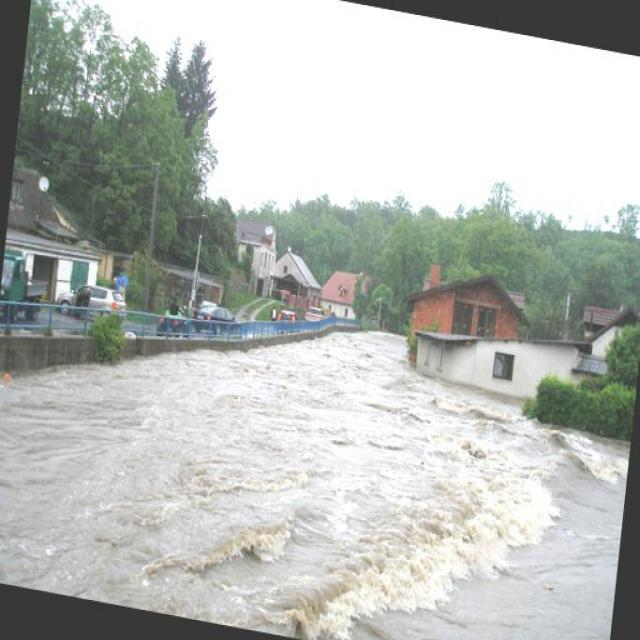flood: (0, 260, 635, 639)
